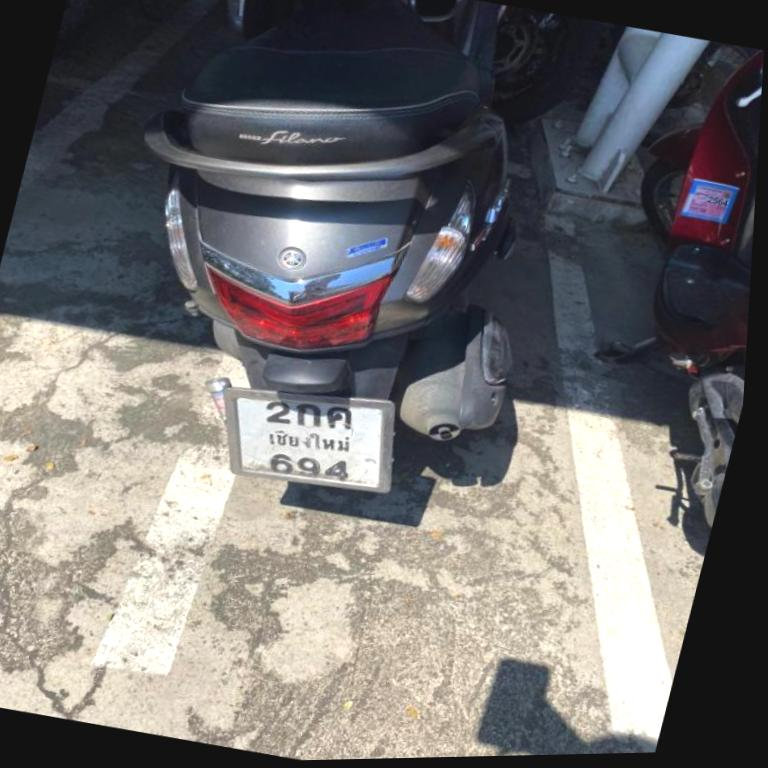license plate: (215, 387, 394, 490)
